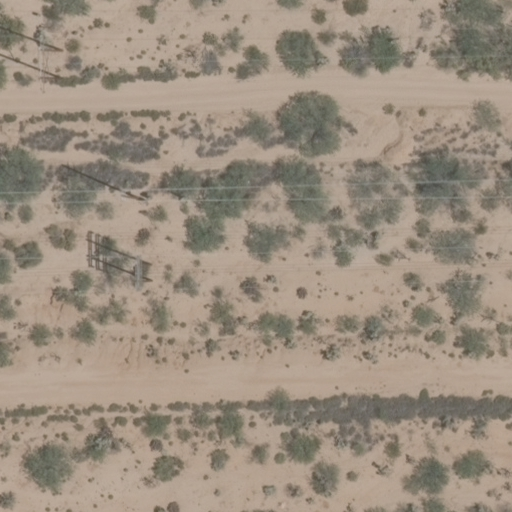DT: (56, 163, 144, 201)
TT: (1, 25, 68, 83), (81, 238, 153, 285)
